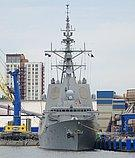MIL_Ship: (35, 20, 98, 151)
